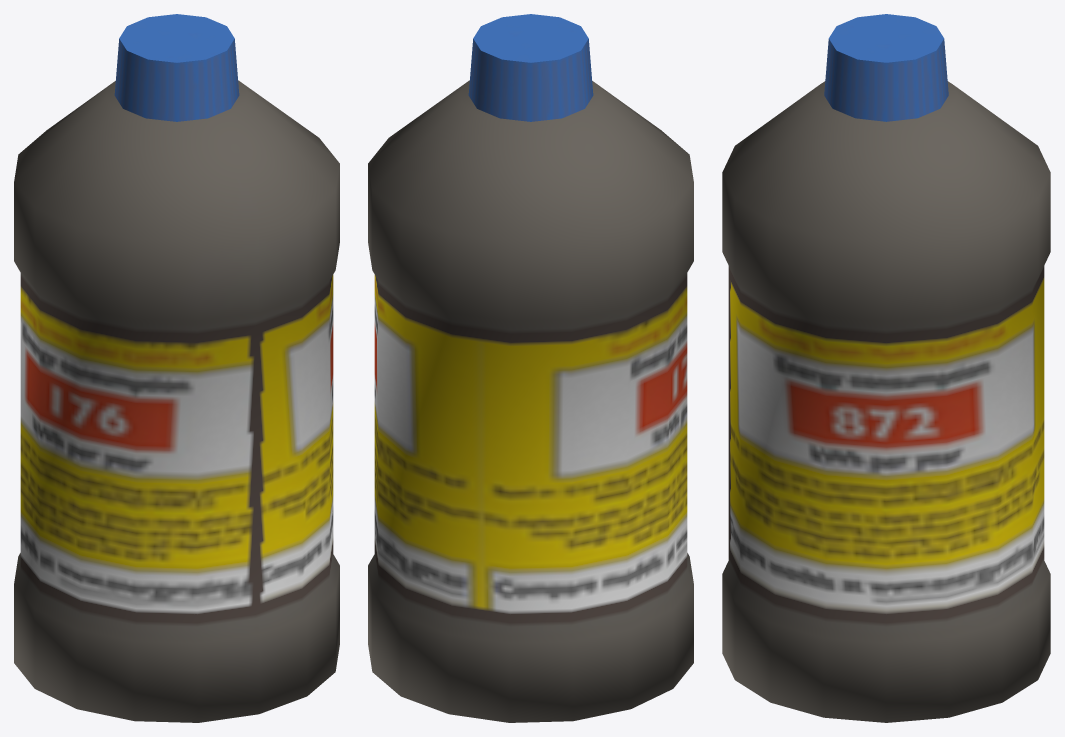
File: SM_BottlePlasticB_01.FBX
The picture shows the model from 3 angles, left to right: view 1: azimuth 30°, elevation 25°; view 2: azimuth 150°, elevation 25°; view 3: azimuth 270°, elevation 25°; orthographic projection.
Visible parts, largest first — view 1: SM_BottlePlasticB_01_LOD0; view 2: SM_BottlePlasticB_01_LOD0; view 3: SM_BottlePlasticB_01_LOD0.
Boxes of the visible parts, x1,y1,x2,y2 form: SM_BottlePlasticB_01_LOD0: [14, 14, 339, 722]; SM_BottlePlasticB_01_LOD0: [368, 14, 693, 722]; SM_BottlePlasticB_01_LOD0: [722, 14, 1050, 722].
Size of what is drawn, in the model's own units: 9.73 by 9.73 by 20.13.
